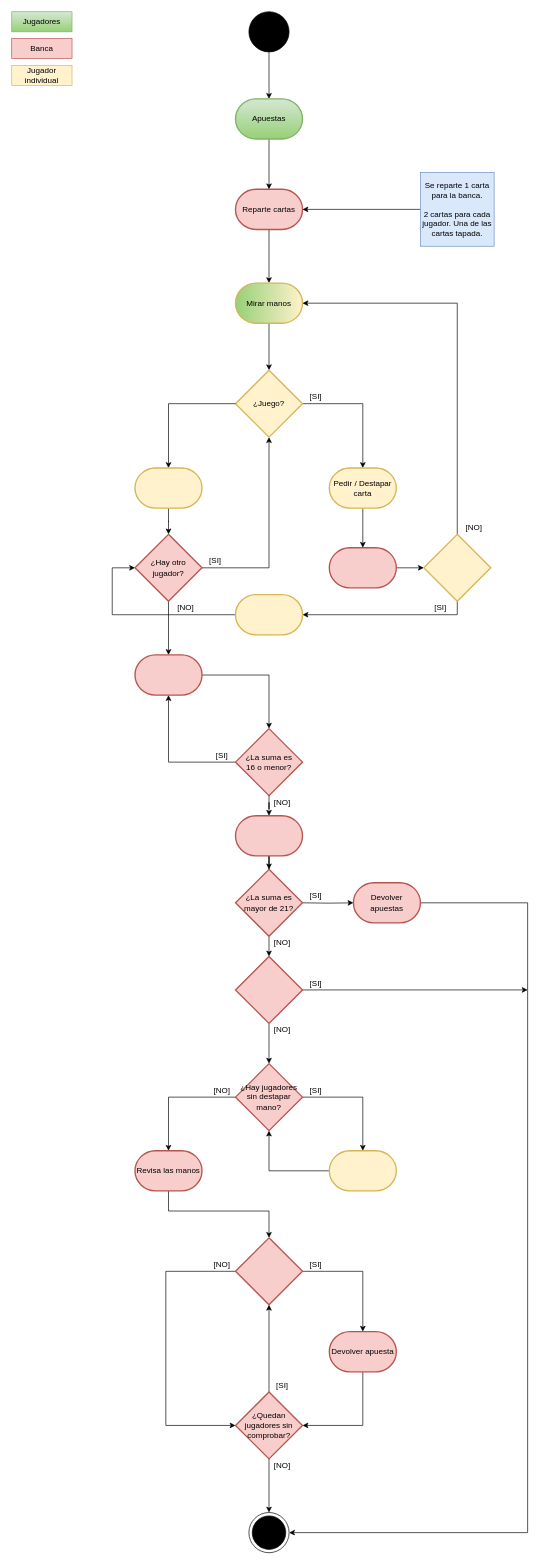
This 545x1564 diagram has some shape labels left out. The shapes that lost their labels are listed below. From the top down, each one's centre as x and y in pixels, then its label:
At pixel 168 488: "Cortar".
At pixel 362 567: "Reparte una carta al jugador".
At pixel 457 567: "¿La suma de las cartas es mayor a 21?".
At pixel 268 614: "Abandonar mano".
At pixel 168 674: "Sacar carta para la banca".
At pixel 268 835: "Parar de sacar cartas".
At pixel 268 989: "¿La suma es 21?".
At pixel 362 1170: "Destapar carta".
At pixel 268 1271: "¿El jugador tiene mayor mano que la banca?".
